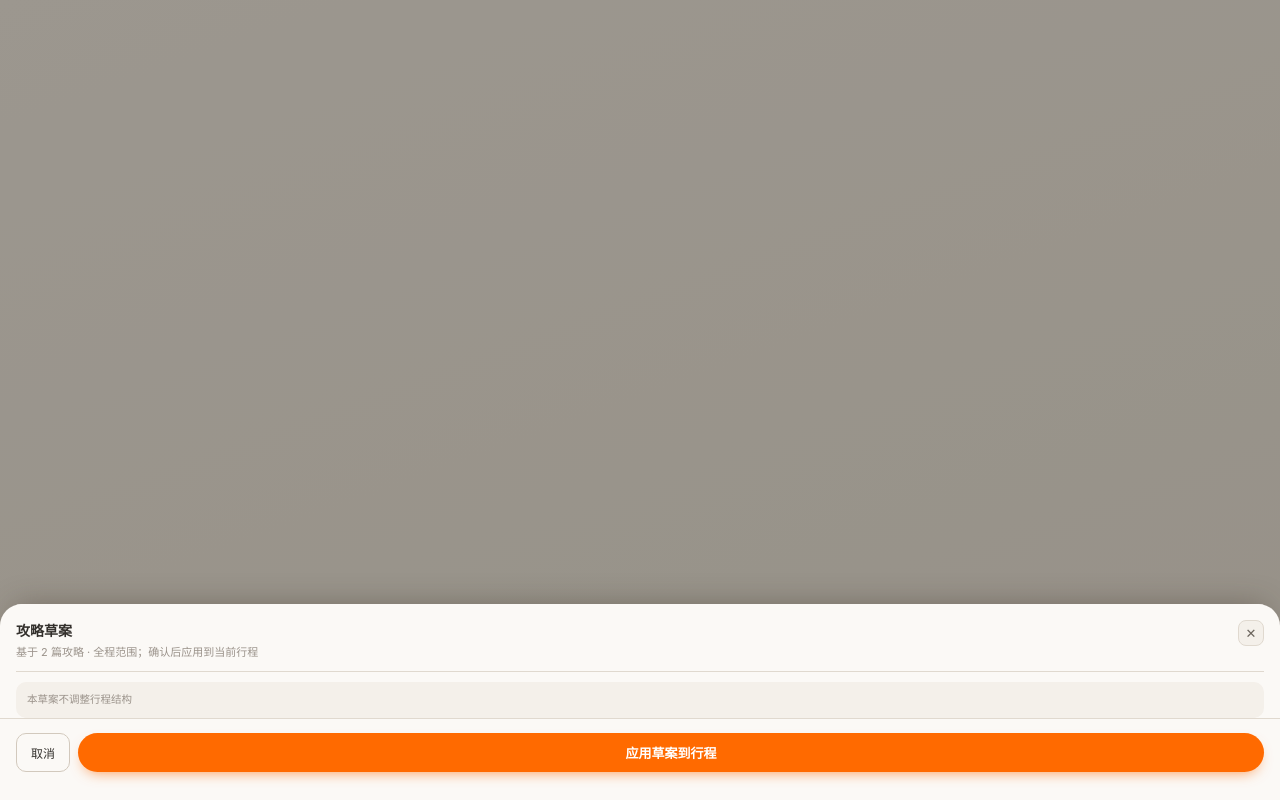
Test: GuideDraftReview 冲突勾选（任务 125） › 应用失败（DRAFT_STALE 等）：透传服务端 message 且可重试（按钮恢复可用）
Click the button "应用草案到行程" at (671, 752), box [78, 733, 1264, 772]
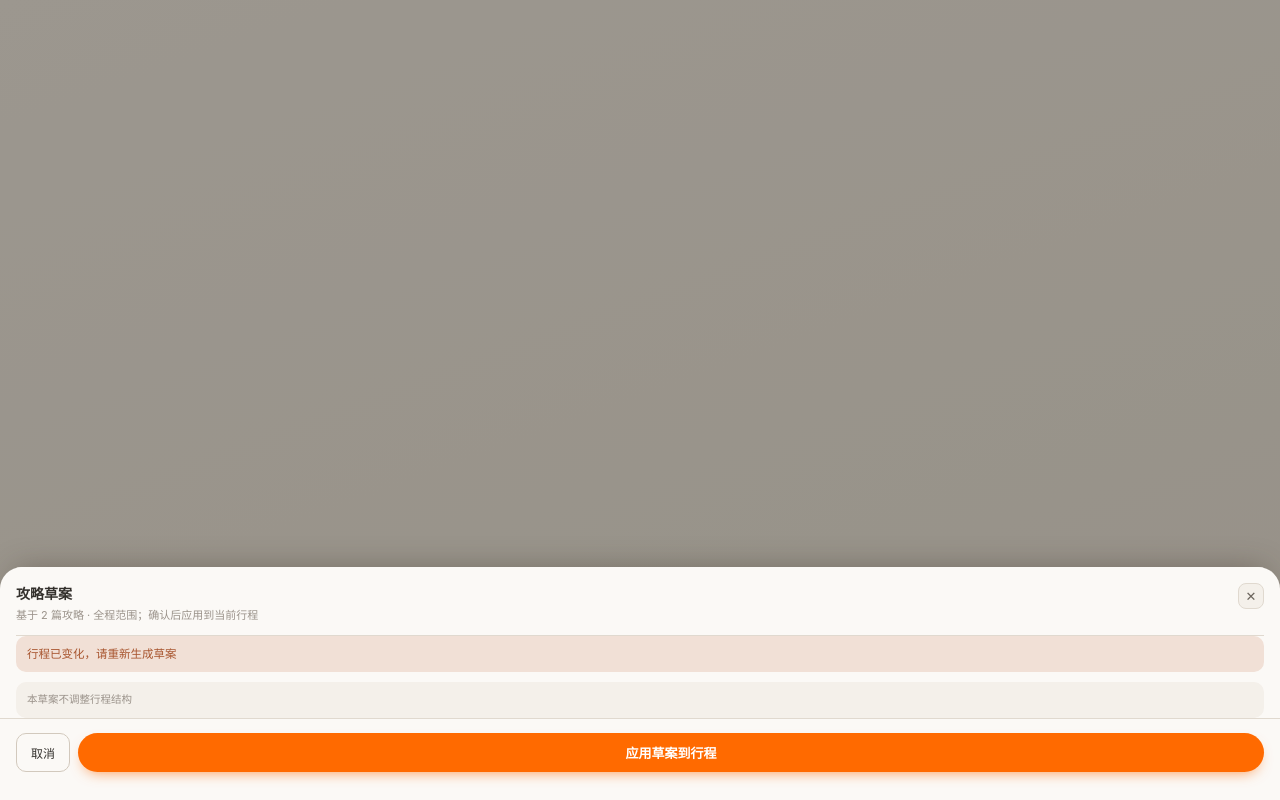
Result: the message reads "行程已变化，请重新生成草案" at [27, 647, 176, 661]
